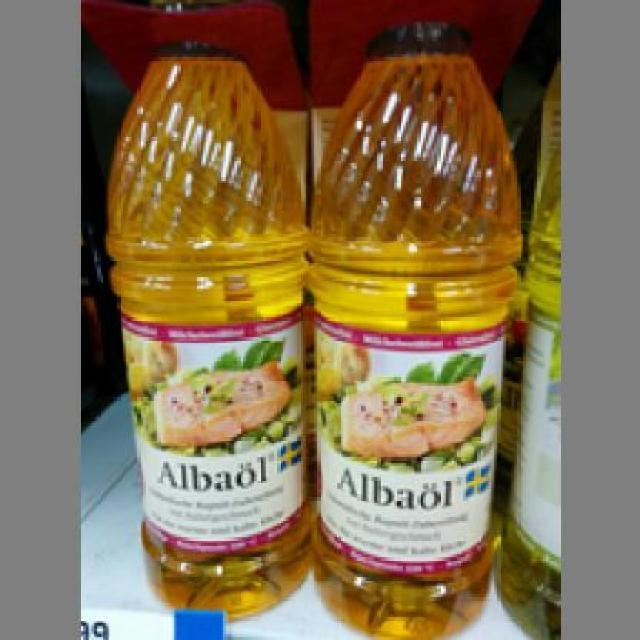Oil: (306, 0, 520, 637), (102, 0, 308, 617)
